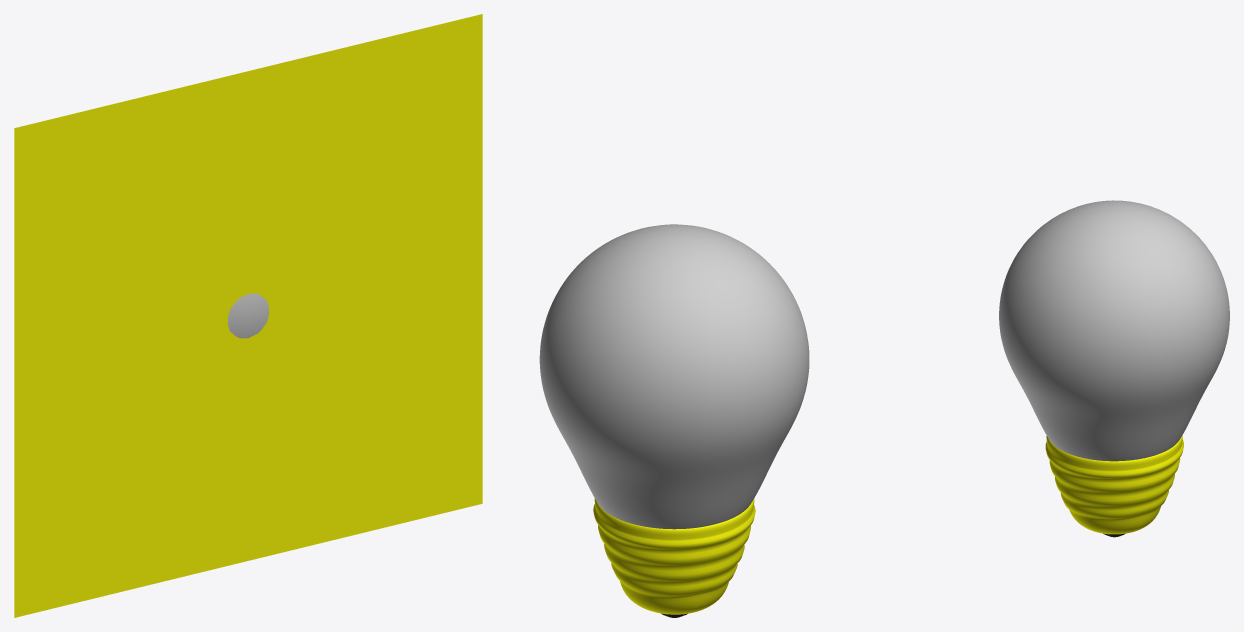
Rendered from Light bulb 1.glb.
3 renders of one model, left to right at view 1: azimuth 30°, elevation 25°; view 2: azimuth 150°, elevation 25°; view 3: azimuth 270°, elevation 25°, orthographic. The views are drawn at different scales.
Parts seen in each view (by area): view 1: Plane, Group45259; view 2: Group45259, Group13608; view 3: Group45259, Group13608.
Part boxes in pixels (x1,y1,x2,y2): Plane: (14, 14, 482, 617); Group45259: (227, 293, 269, 338); Group45259: (539, 224, 809, 529); Group13608: (593, 498, 755, 614); Group45259: (999, 200, 1229, 461); Group13608: (1045, 435, 1183, 534).
Bounding box in the file's own units: 1 × 1.03 × 0.5081.
4 materials, 2 textured.
